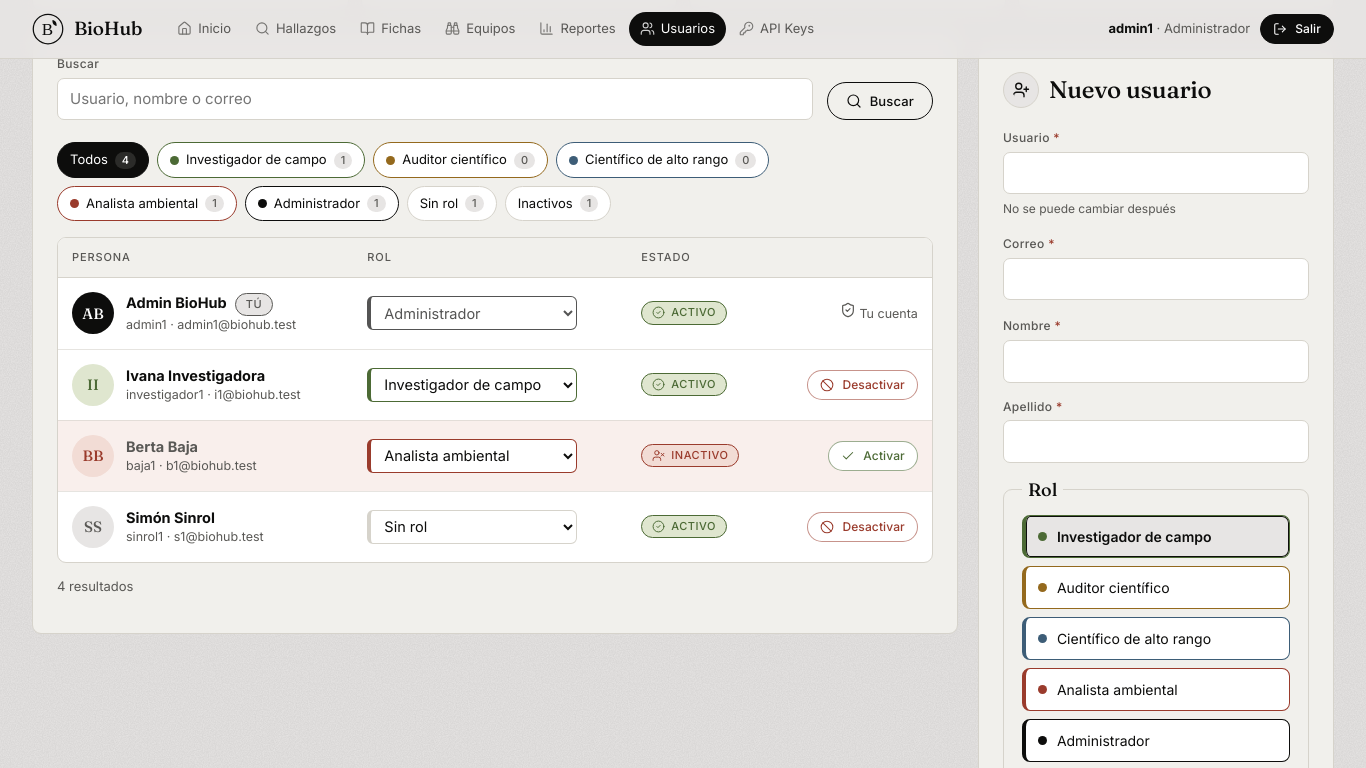
Usuarios y roles (HU-10) › cambiar el rol llama a la API y avisa que sus sesiones se cerraron; quitarlo usa DELETE
Later steps or results of the test are not shown.
(page scrolled)
Expected: the text "investigador1 · i1@biohub.test" is shown, [126, 386, 301, 405]
Select "Científico de alto rango" in the dropdown named "Rol de investigador1" at (472, 385), box [367, 368, 577, 402]
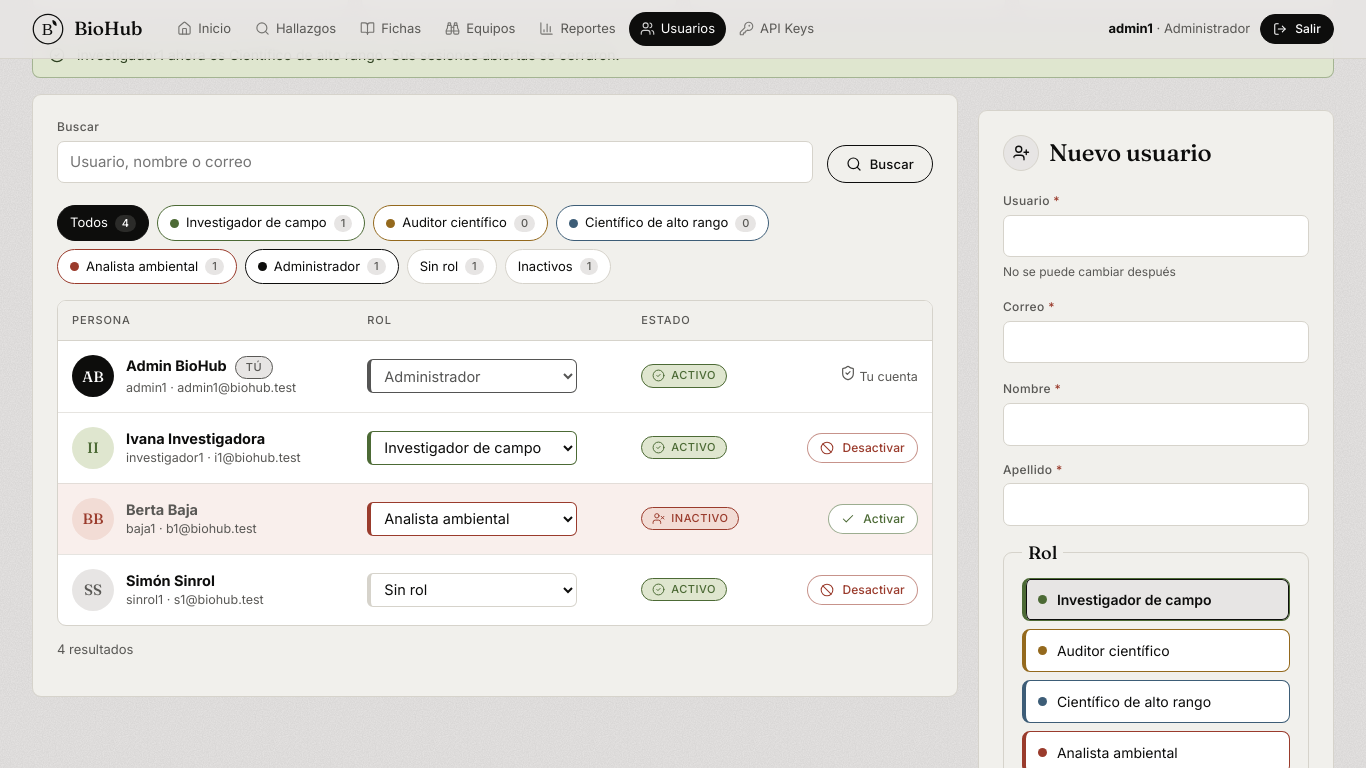
Now the text "Sus sesiones abiertas se cerraron" is shown, box [77, 46, 620, 63]
